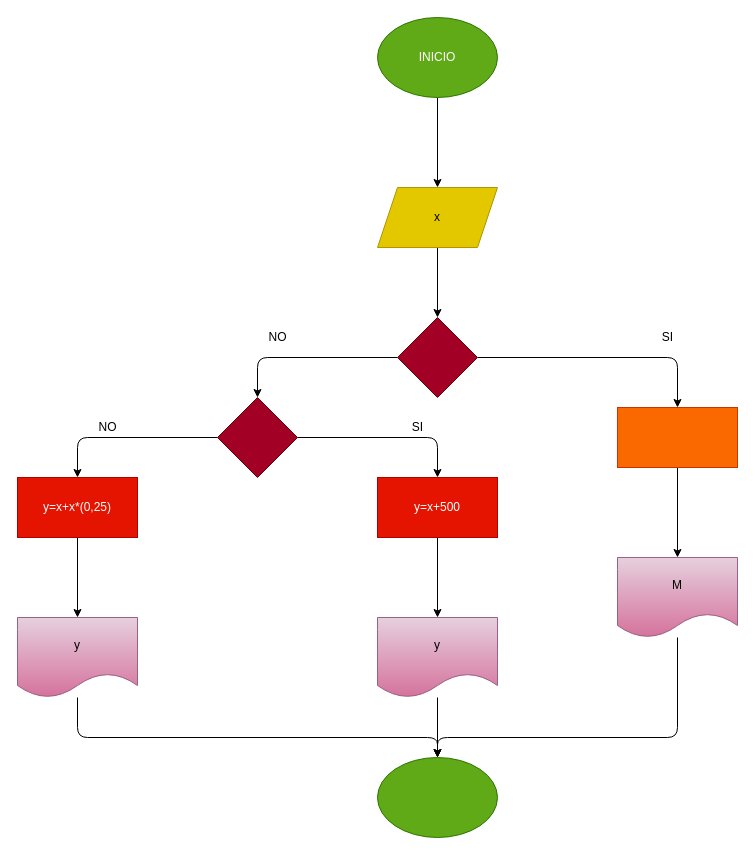
The diagram is 755 pixels wide and 855 high, and some of its shapes have lost their labels. Here are the shapes that lost their labels. From the top down, the centre of each, then its label:
(437,357): x<3000
(257,437): x<=6000
(677,437): y= x+y*(0,15)
(437,797): FIN
